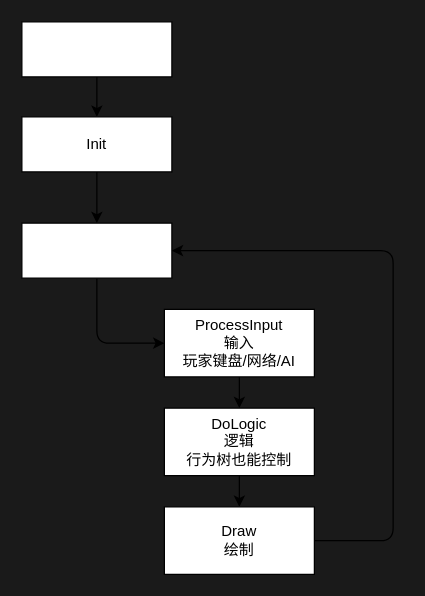
Image size: 425x596. Some labels were removed from this diagram. The box of each missing label's shape, as (x1, y1, x2, y2) in pixels:
Main: (21, 21, 172, 77)
While 主循环: (21, 222, 172, 278)
